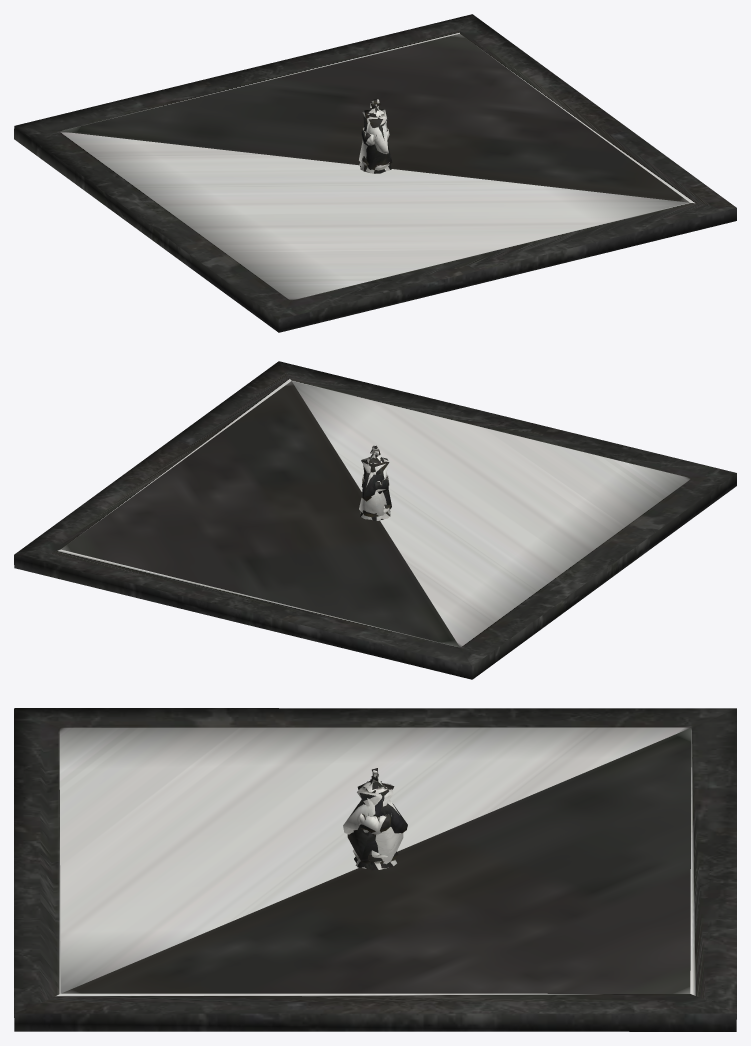
The model's file is decor_game_set.glb.
3 views of the same model, one above another, from view 1: azimuth 30°, elevation 25°; view 2: azimuth 150°, elevation 25°; view 3: azimuth 270°, elevation 25° (orthographic). The views are drawn at different scales.
Visible parts, largest first — view 1: decor_game_set; view 2: decor_game_set; view 3: decor_game_set.
Boxes of the visible parts, x1,y1,x2,y2 form: decor_game_set: [14, 14, 736, 332]; decor_game_set: [14, 361, 736, 679]; decor_game_set: [14, 708, 736, 1031].
Bounding box in the file's own units: 0.2314 × 0.0398 × 0.2313.
Materials: 3 (3 with a texture image).
